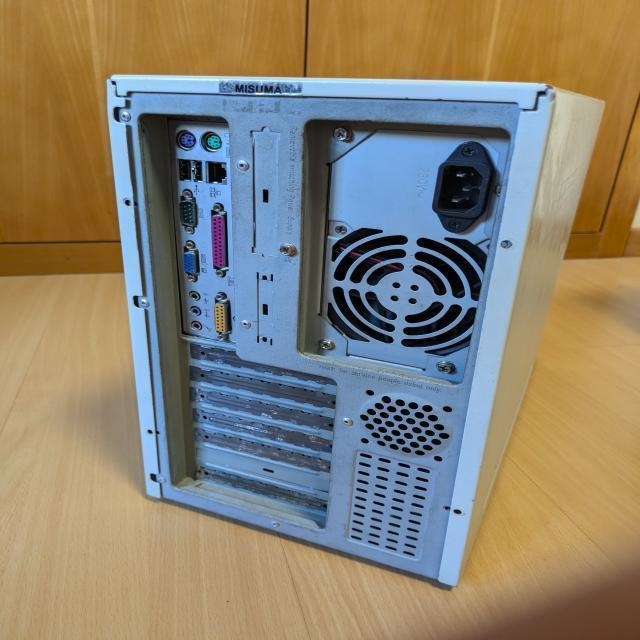PSU: (310, 123, 506, 384)
